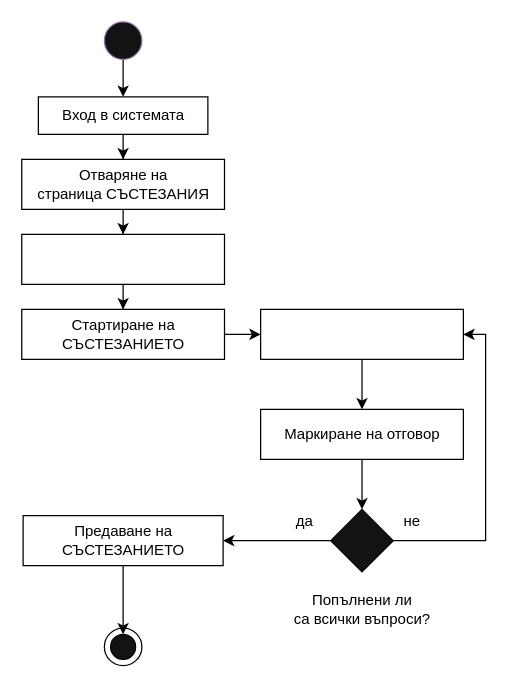
Image size: 519x688. Some labels were removed from this diagram. The shapes that lost their labels are listed below. From the top down, each one's centre as x and y in pixels, then its label:
(122,258): Избор на СЪСТЕЗАНИЕ
(361,333): Избор на въпрос от времевата линия
